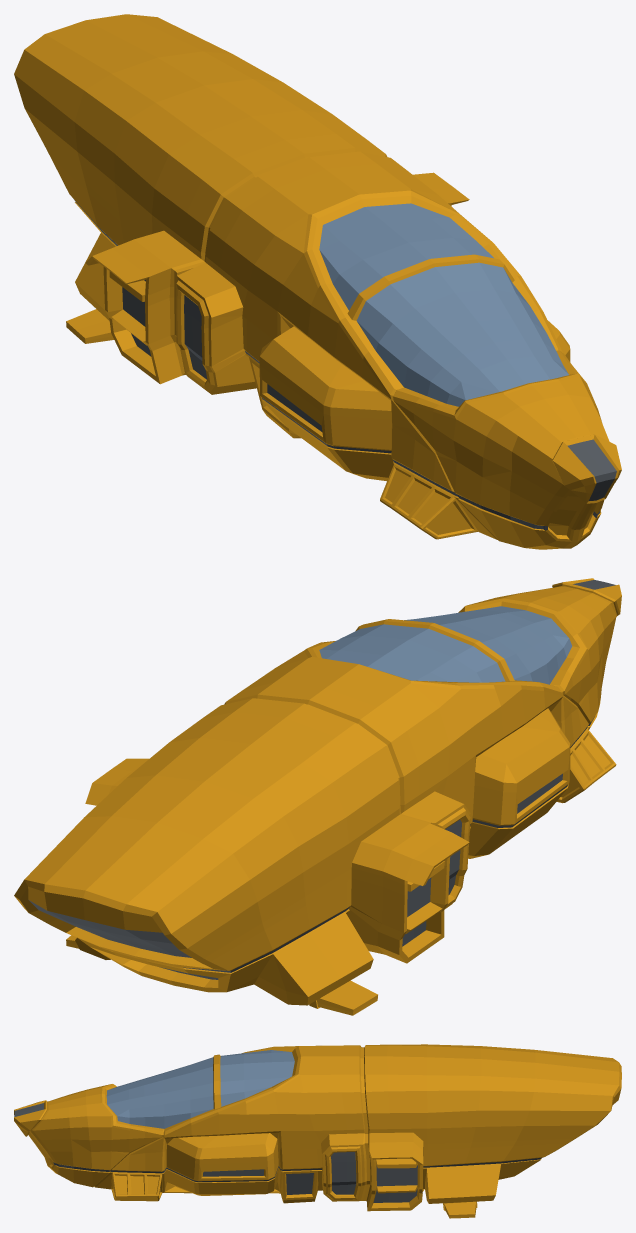
The model's file is Fighter_07_Body_Yellow.fbx.
3 renders of one model, top to bottom at view 1: azimuth 30°, elevation 25°; view 2: azimuth 150°, elevation 25°; view 3: azimuth 270°, elevation 25°, orthographic. The views are drawn at different scales.
Parts seen in each view (by area): view 1: Fighter_07_Body_Yellow; view 2: Fighter_07_Body_Yellow; view 3: Fighter_07_Body_Yellow.
Part boxes in pixels (x1,y1,x2,y2): Fighter_07_Body_Yellow: (14,14,621,549); Fighter_07_Body_Yellow: (14,578,621,1015); Fighter_07_Body_Yellow: (14,1044,621,1218).
Size of the model in its own units: 808 by 505 by 2135.
3 materials, 3 textured.
